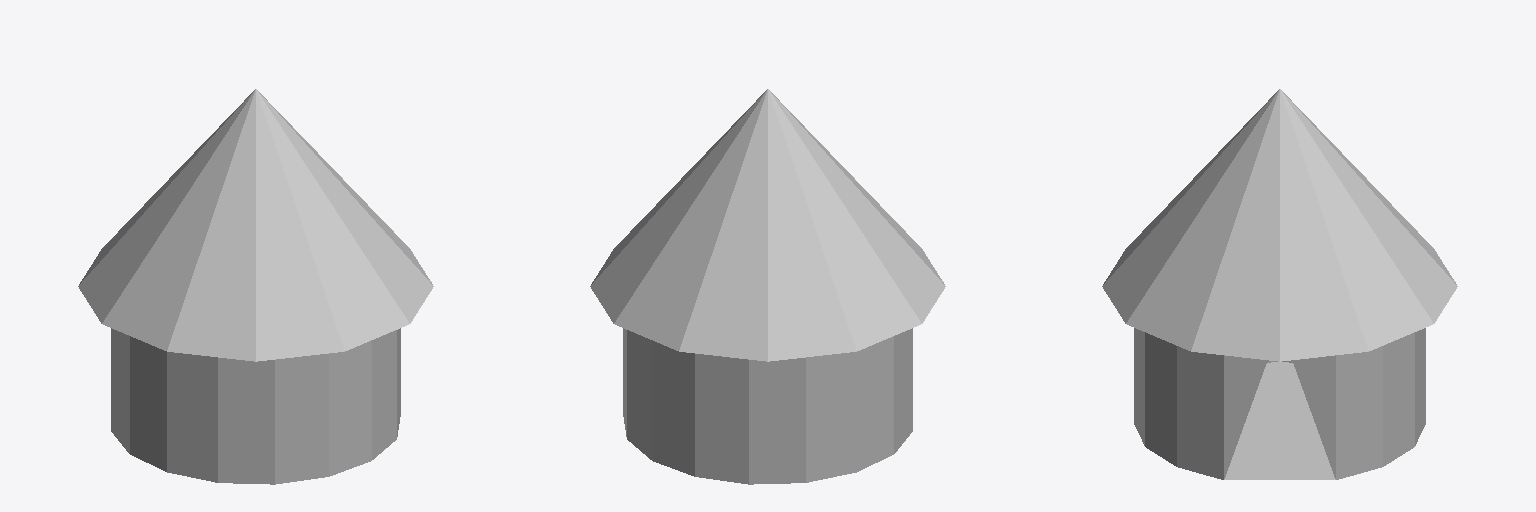
The model's file is house wip 2.obj.
3 renders of one model, left to right at view 1: azimuth 30°, elevation 25°; view 2: azimuth 150°, elevation 25°; view 3: azimuth 270°, elevation 25°, orthographic.
Visible parts, largest first — view 1: Cylinder; view 2: Cylinder; view 3: Cylinder.
Boxes of the visible parts, x1,y1,x2,y2 form: Cylinder: [78, 89, 433, 484]; Cylinder: [590, 89, 945, 484]; Cylinder: [1102, 89, 1457, 479].
Size of the model in its own units: 2.44 by 2.53 by 2.44.